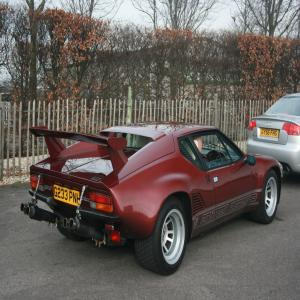Vehicle-registration-plate: (55, 187, 79, 217), (261, 128, 280, 139)
